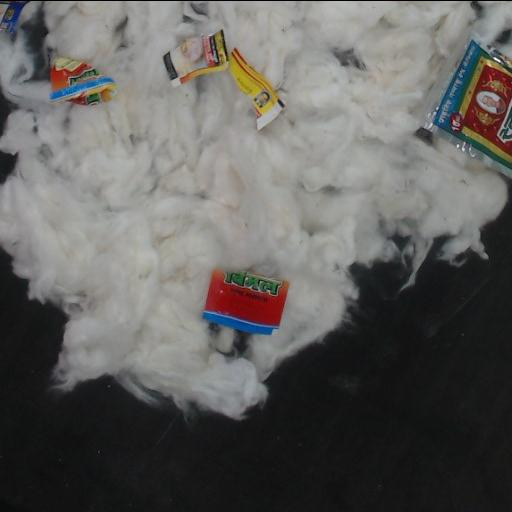conveyor belt: (0, 187, 511, 512)
cotton: (0, 1, 511, 418)
packet: (421, 39, 511, 175), (163, 29, 284, 129), (203, 270, 288, 334), (50, 58, 113, 104)
